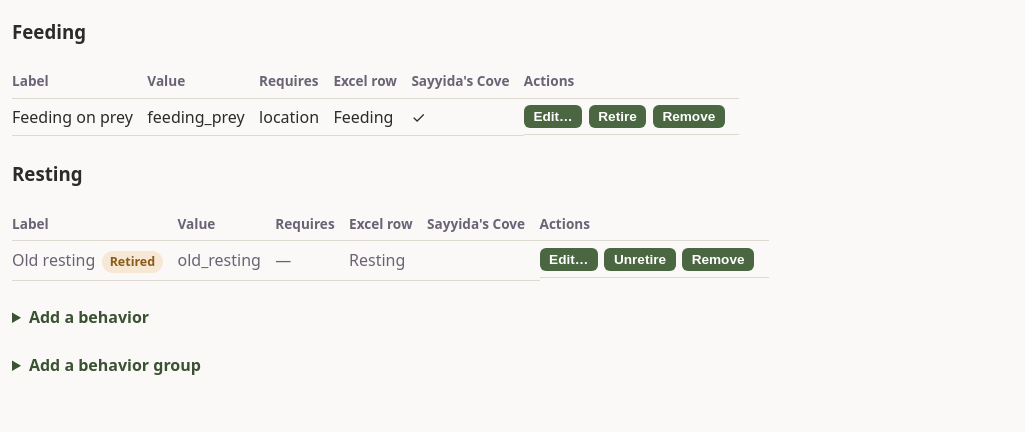
BehaviorCatalog › surfaces the API's refusal when removing a published behavior
Note: In-app confirm (SM-1): arm, then confirm
Step 1. Click the button "Remove" in the row of "Feeding on prey" → click(689, 117), box [653,105,725,128]
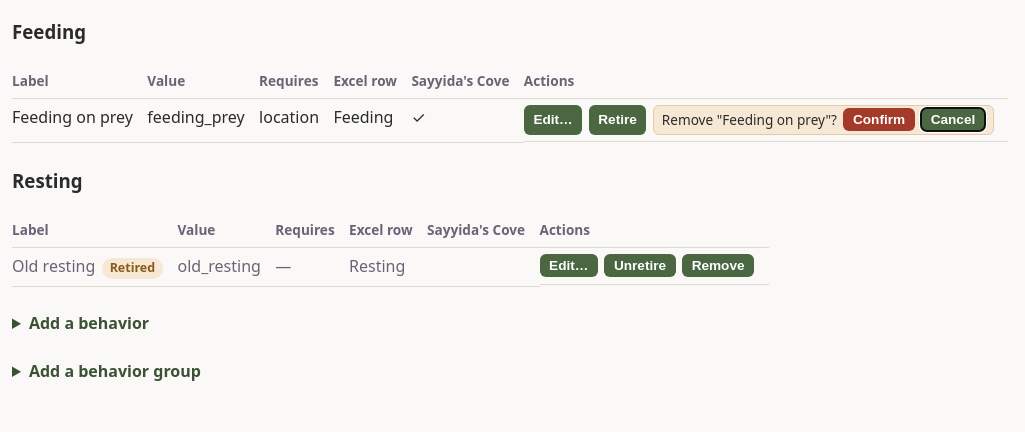
Expected: the text "Remove \"Feeding on prey\"?" is shown, [662,110,837,129]
Step 2. Click the button "Confirm" → click(879, 120), box [843,108,915,132]
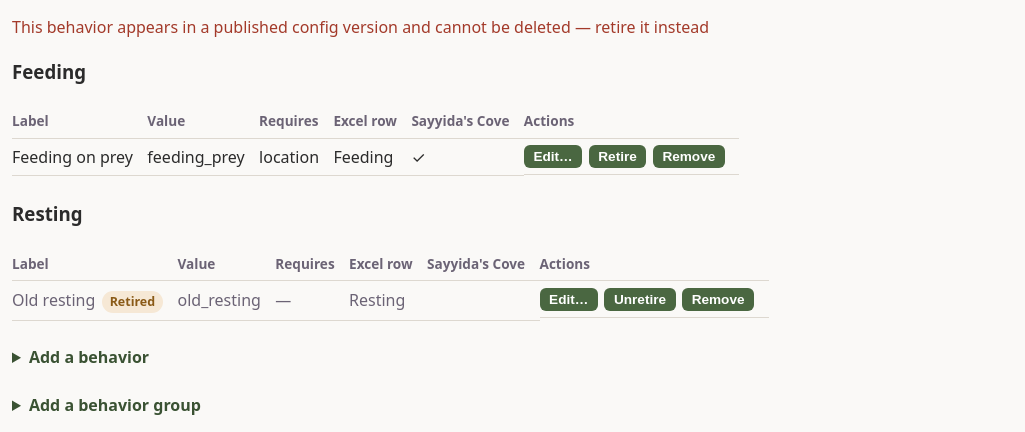
Expected: the message shows "retire it instead", [12,16,709,38]
